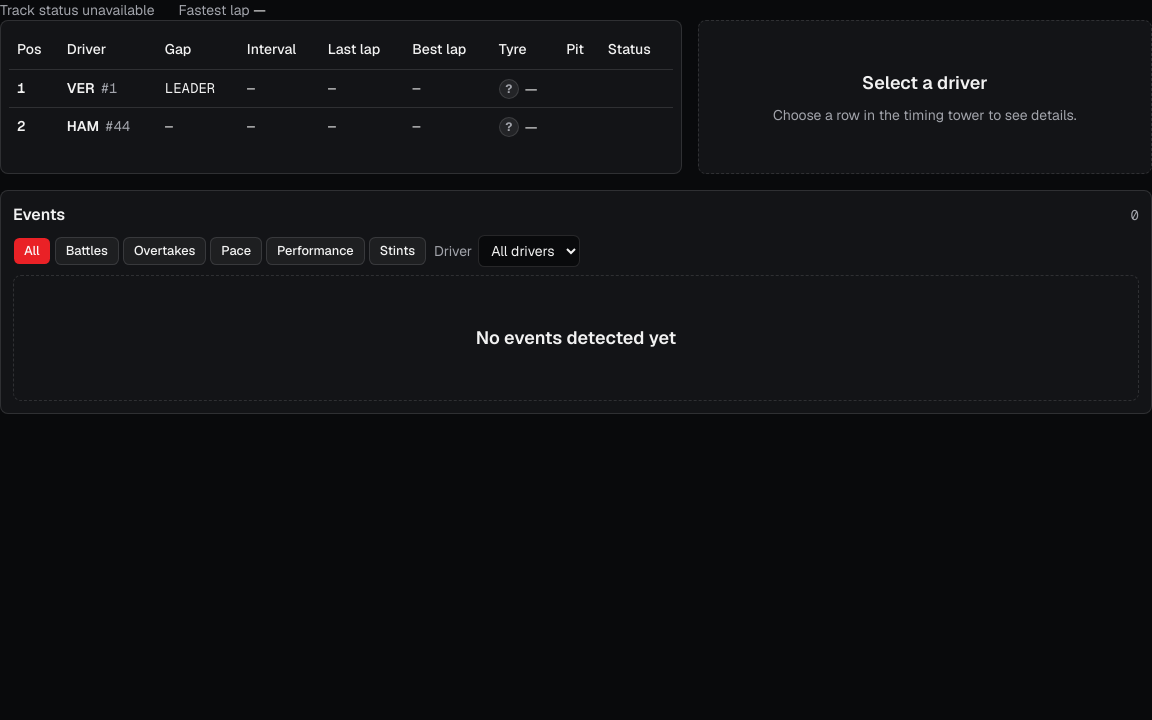
Scenario: driver selection and details › updates on DRIVER_UPDATE and LAP_COMPLETED, sorted laps and flags
Step 1. Click the button "VER#1" → click(92, 88), box [67, 78, 118, 98]
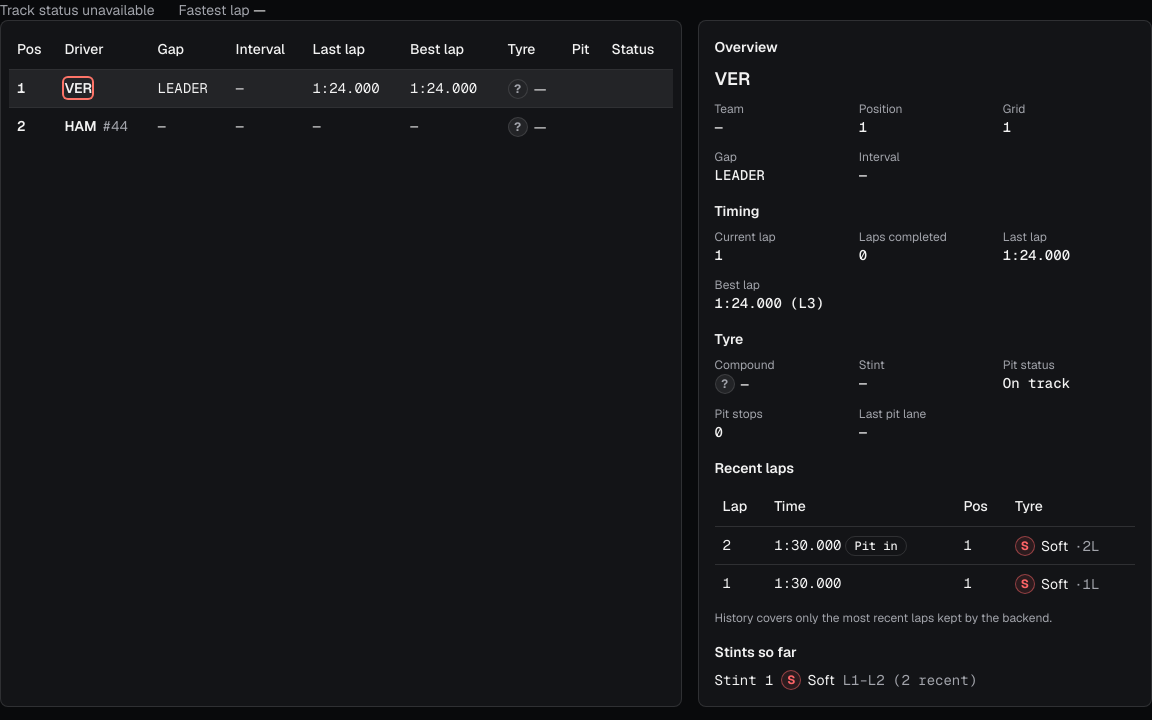
Expected: the element named "Driver details" shows "1:24.000 (L3)", [698, 20, 1151, 706]
Expected: the row "2 1:30.000 Pit in 1 S Soft ·2L" is shown, [715, 526, 1135, 564]
Expected: the element "Stints so far" shows "Stint 1", [715, 642, 977, 690]
